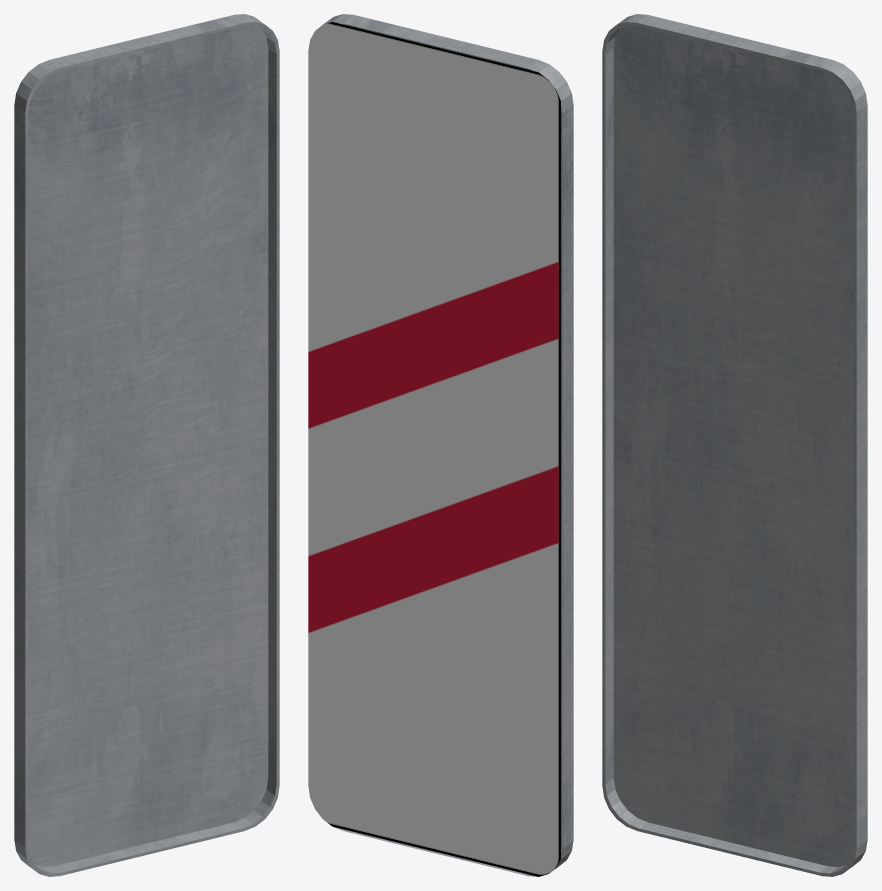
File: Countdown_marker_to_level_crossing__2_.fbx
The picture shows the model from 3 angles, left to right: view 1: azimuth 30°, elevation 25°; view 2: azimuth 150°, elevation 25°; view 3: azimuth 330°, elevation 25°; orthographic projection.
Visible parts, largest first — view 1: Countdown marker to level crossing (2); view 2: Countdown marker to level crossing (2); view 3: Countdown marker to level crossing (2).
Boxes of the visible parts, x1,y1,x2,y2 form: Countdown marker to level crossing (2): (14,14,279,876); Countdown marker to level crossing (2): (308,14,573,876); Countdown marker to level crossing (2): (602,14,867,876).
Bounding box in the file's own units: 0.02 × 0.27 × 0.82.
